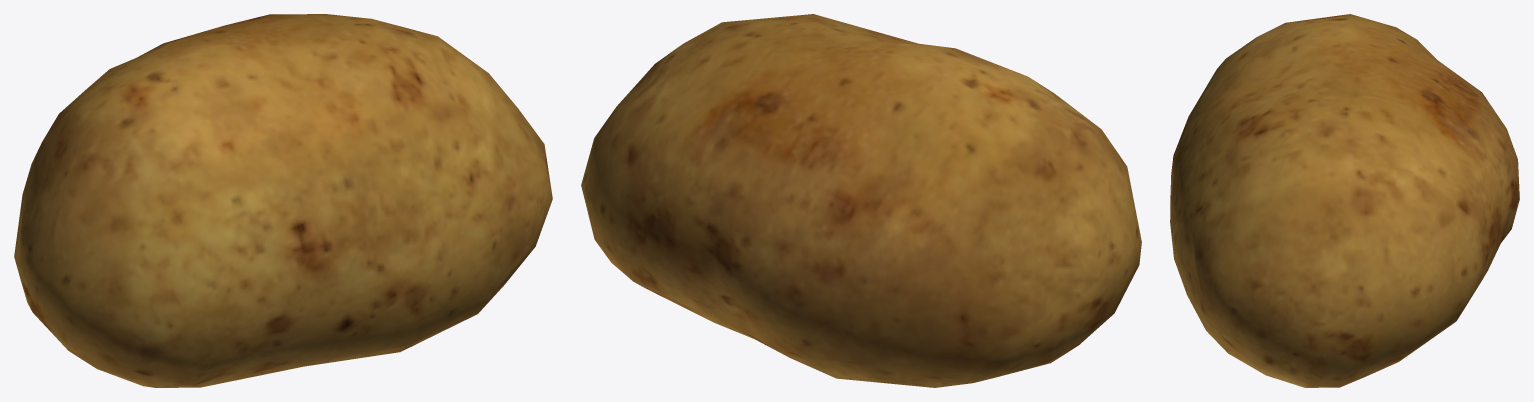
Rendered from SM_potatoe_02.fbx.
3 renders of one model, left to right at view 1: azimuth 30°, elevation 25°; view 2: azimuth 150°, elevation 25°; view 3: azimuth 270°, elevation 25°, orthographic. The views are drawn at different scales.
Visible parts, largest first — view 1: SM_potatoe_02_LOD0; view 2: SM_potatoe_02_LOD0; view 3: SM_potatoe_02_LOD0.
Part boxes in pixels (bbox=[...]): SM_potatoe_02_LOD0: bbox=[14, 14, 552, 387]; SM_potatoe_02_LOD0: bbox=[581, 14, 1141, 387]; SM_potatoe_02_LOD0: bbox=[1170, 14, 1519, 387].
Bounding box in the file's own units: 8.55 × 5.89 × 5.03.
Materials: 1 (1 with a texture image).
